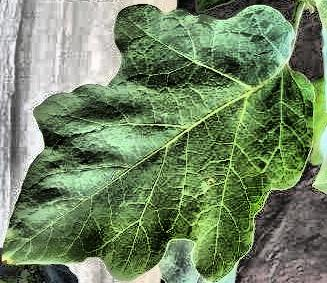HEALTHY: (1, 0, 327, 283)
